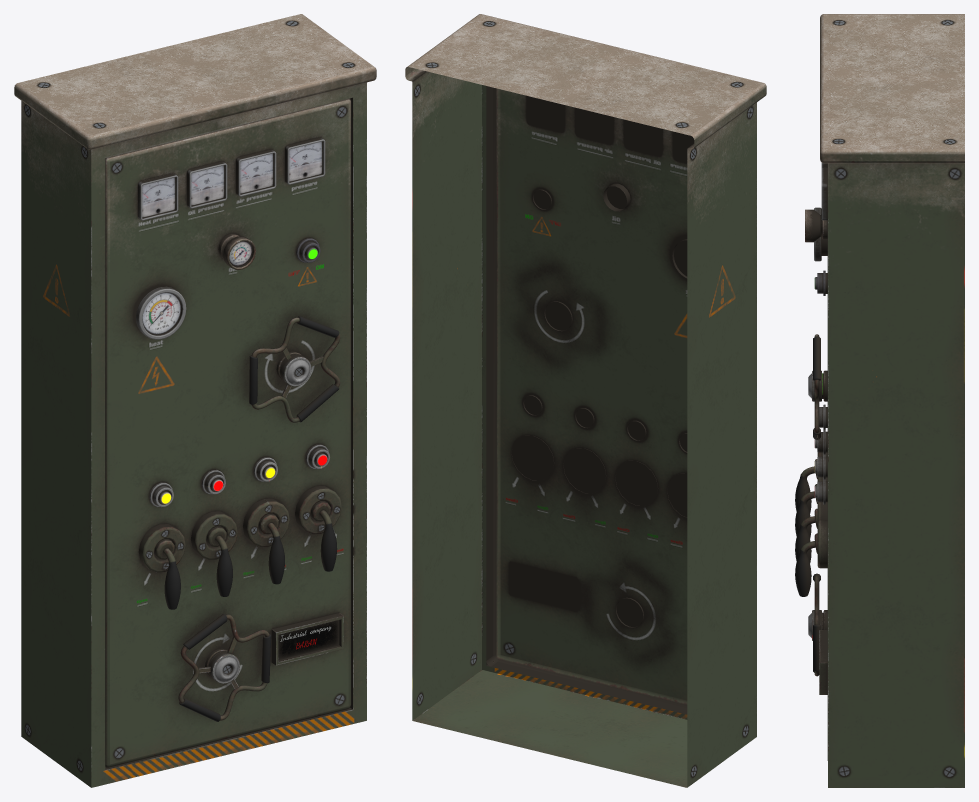
File: industrial_electrical_box-11mb.glb
3 views of the same model, side by side, from view 1: azimuth 30°, elevation 25°; view 2: azimuth 150°, elevation 25°; view 3: azimuth 270°, elevation 25° (orthographic). The views are drawn at different scales.
Visible parts, largest first — view 1: Null; view 2: Null; view 3: Null.
Part boxes in pixels (left/top/right/bottom): Null: left=14, top=14, right=376, bottom=787; Null: left=405, top=14, right=766, bottom=787; Null: left=795, top=14, right=964, bottom=787.
Size of the model in its own units: 0.9456 by 2.04 by 0.491.
Materials: 1 (1 with a texture image).
